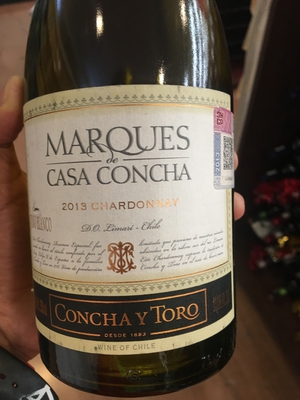marques de casa concha chardonnay: (22, 14, 247, 378)
